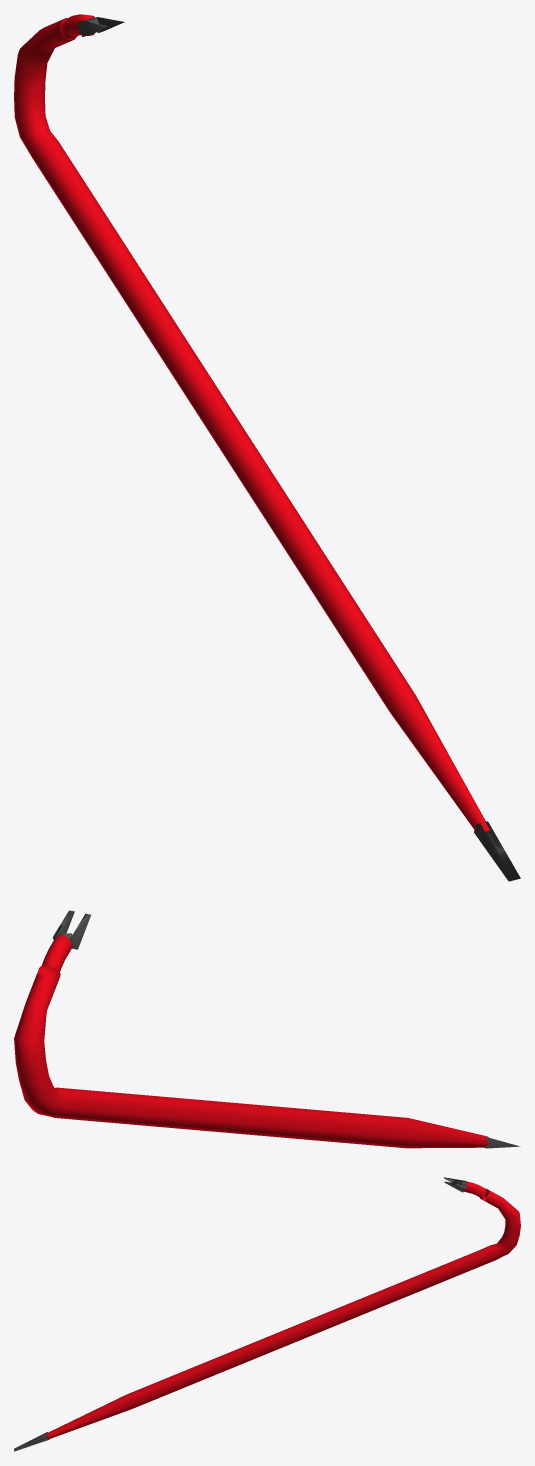
Rendered from CrowBar.fbx.
3 renders of one model, top to bottom at view 1: azimuth 30°, elevation 25°; view 2: azimuth 150°, elevation 25°; view 3: azimuth 270°, elevation 25°, orthographic. The views are drawn at different scales.
Parts seen in each view (by area): view 1: CrowBar; view 2: CrowBar; view 3: CrowBar.
Boxes of the visible parts, <box> form: CrowBar: <box>14,14,520,881</box>; CrowBar: <box>14,910,520,1148</box>; CrowBar: <box>14,1177,520,1451</box>.
Size of the model in its own units: 25.49 by 283 by 472.
